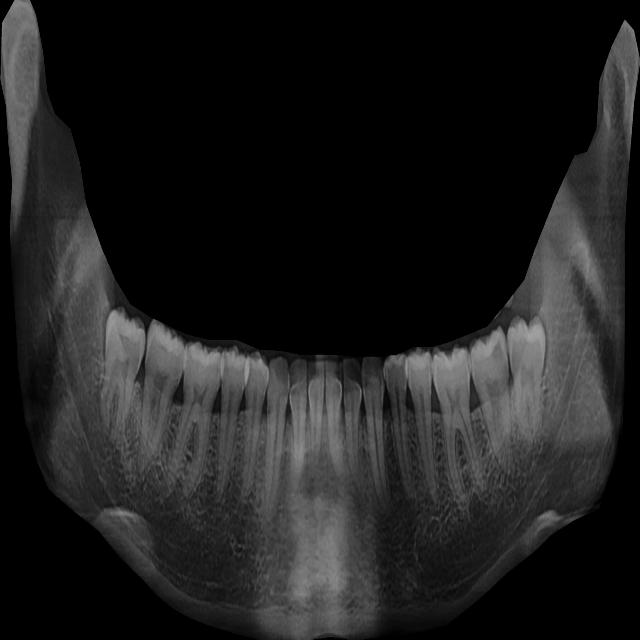mandibula: (0, 0, 640, 640)
